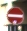No entry: (6, 6, 22, 25)
